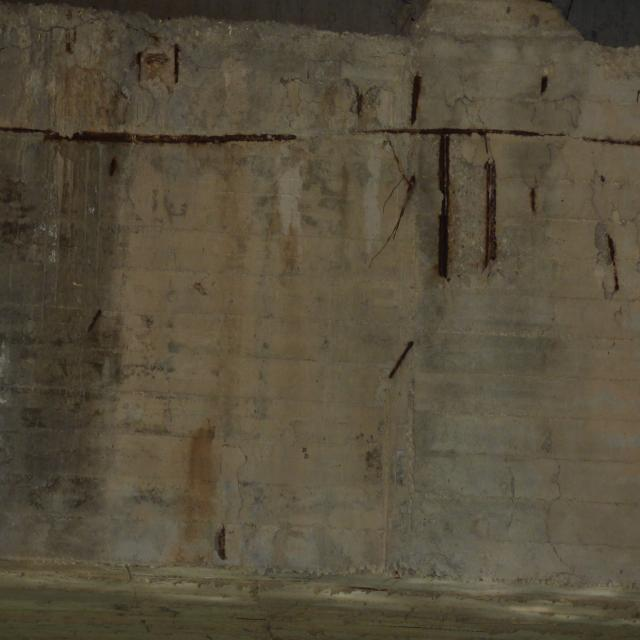corrosion: (2, 23, 424, 573), (533, 41, 640, 521), (434, 120, 511, 301)
